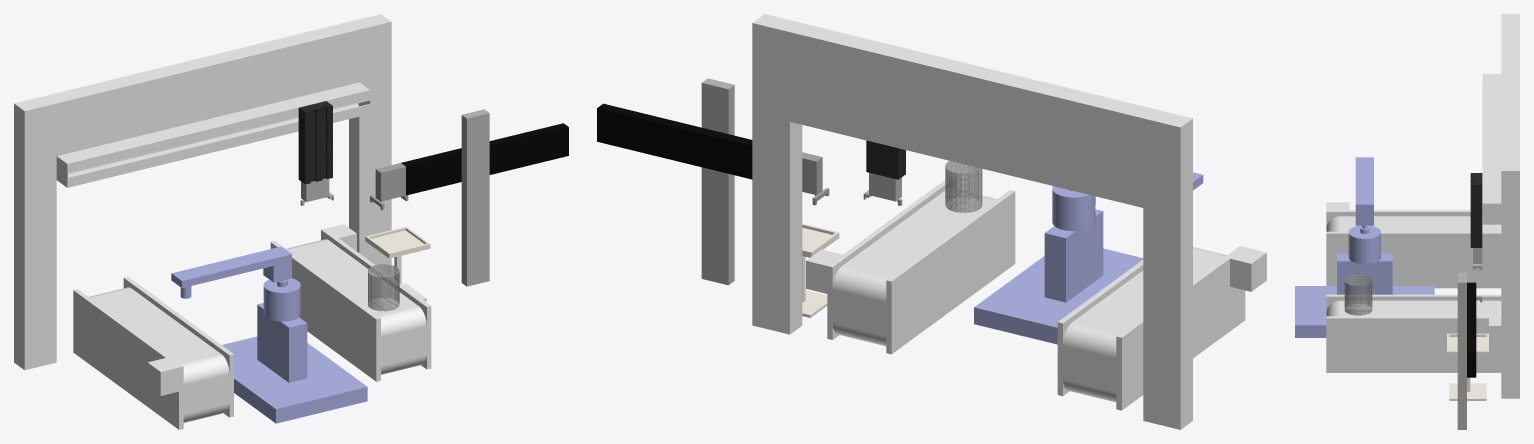
Rendered from 生產線.glb.
3 views of the same model, side by side, from view 1: azimuth 30°, elevation 25°; view 2: azimuth 150°, elevation 25°; view 3: azimuth 270°, elevation 25° (orthographic). The views are drawn at different scales.
Visible parts, largest first — view 1: 实体1 (×12); view 2: 实体1 (×12); view 3: 实体1 (×10).
Boxes of the visible parts, x1,y1,x2,y2 form: 实体1 (×12): (14, 14, 568, 429); 实体1 (×12): (597, 14, 1266, 429); 实体1 (×10): (1295, 14, 1519, 429).
Size of the model in its own units: 1.14 by 0.54 by 0.4837.
10 materials, 2 textured.
